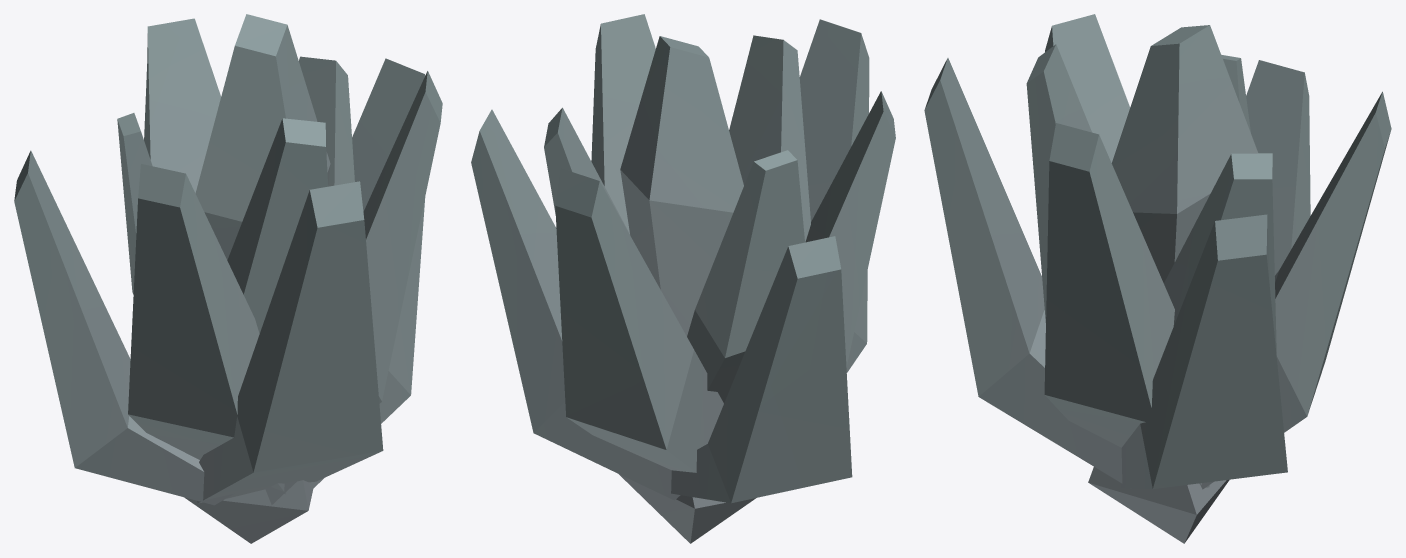
Rendered from entity84006.glb.
3 renders of one model, left to right at view 1: azimuth 30°, elevation 25°; view 2: azimuth 150°, elevation 25°; view 3: azimuth 270°, elevation 25°, orthographic. The views are drawn at different scales.
Visible parts, largest first — view 1: node_SM_Env_Plant_Shrub_01 (17); view 2: node_SM_Env_Plant_Shrub_01 (17); view 3: node_SM_Env_Plant_Shrub_01 (17).
Part boxes in pixels (bbox=[...]): node_SM_Env_Plant_Shrub_01 (17): bbox=[14, 14, 442, 543]; node_SM_Env_Plant_Shrub_01 (17): bbox=[471, 14, 895, 543]; node_SM_Env_Plant_Shrub_01 (17): bbox=[924, 14, 1391, 543].
Bounding box in the file's own units: 0.8835 × 1.11 × 0.9014.
1 material, 1 textured.
